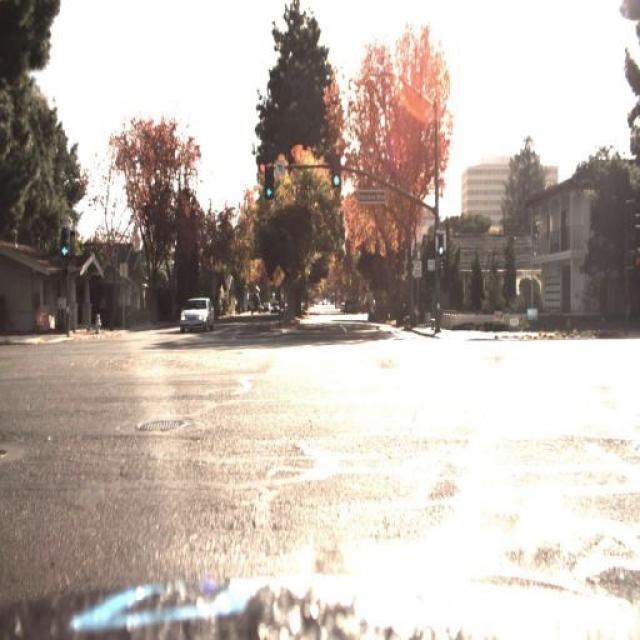semaforo: (57, 224, 70, 260), (331, 154, 341, 188), (265, 166, 274, 200), (436, 233, 446, 257)
